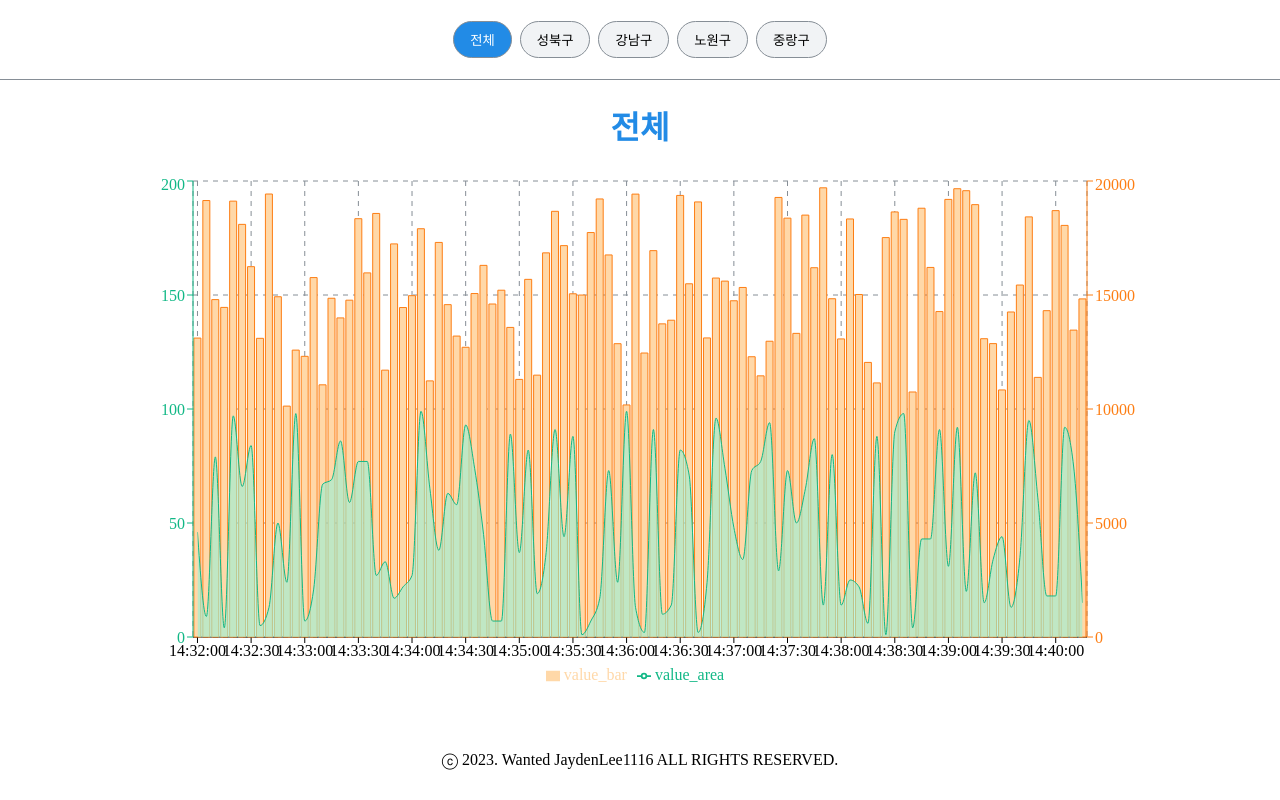
Test case: Cypress › should render title "성북구" when click "성북구" button
This screenshot has width=1280, height=800.
What coordinates should you click on to do the following:
click the button "성북구"
I would click on:
 (556, 40)
Its box is [520,21,591,58].
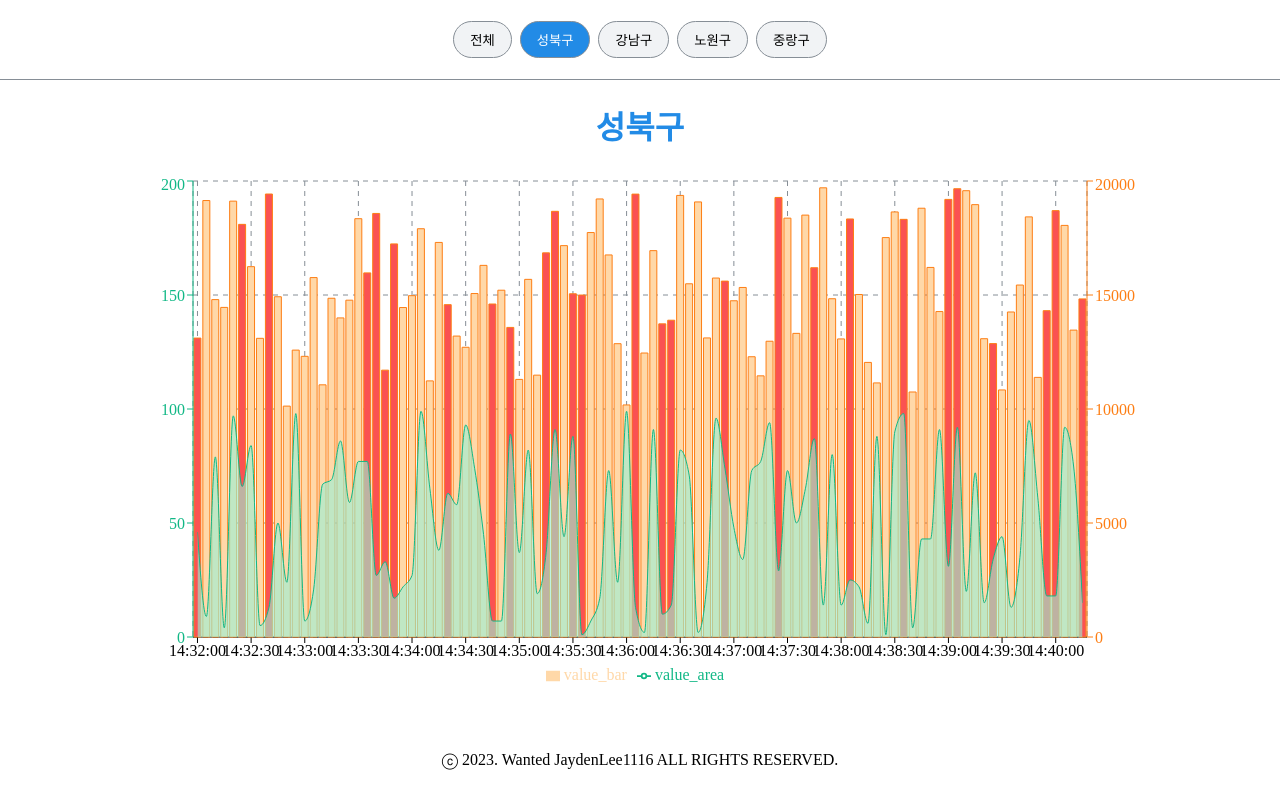
Result: the heading "성북구" is shown at [596,112,684,144]
